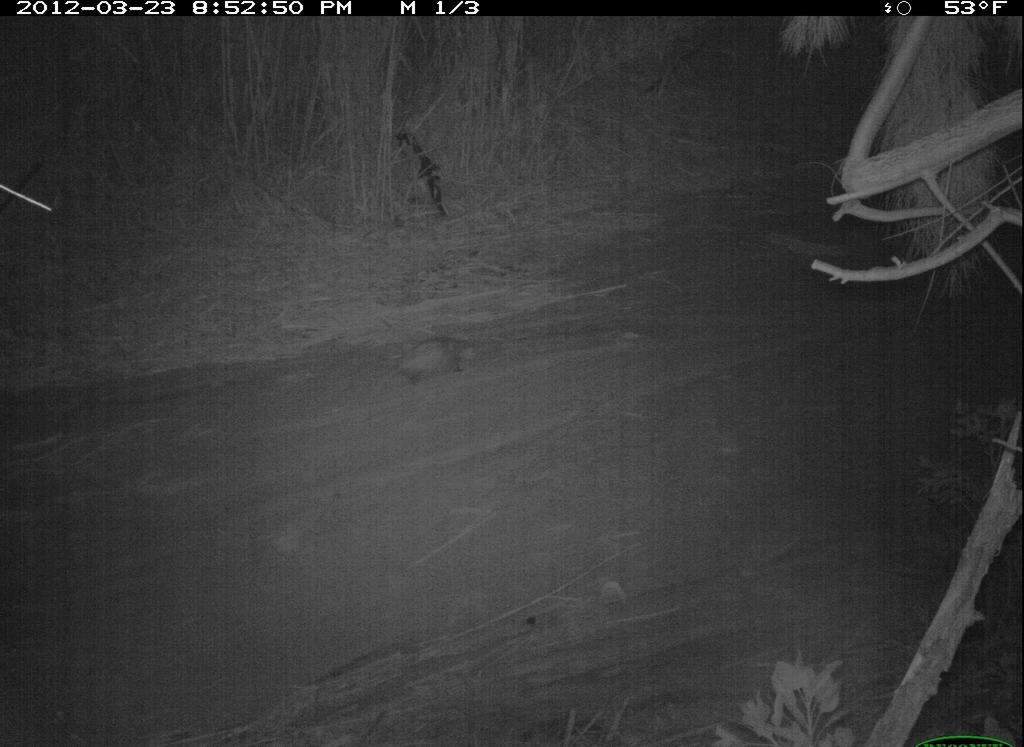opossum: (354, 322, 510, 402)
